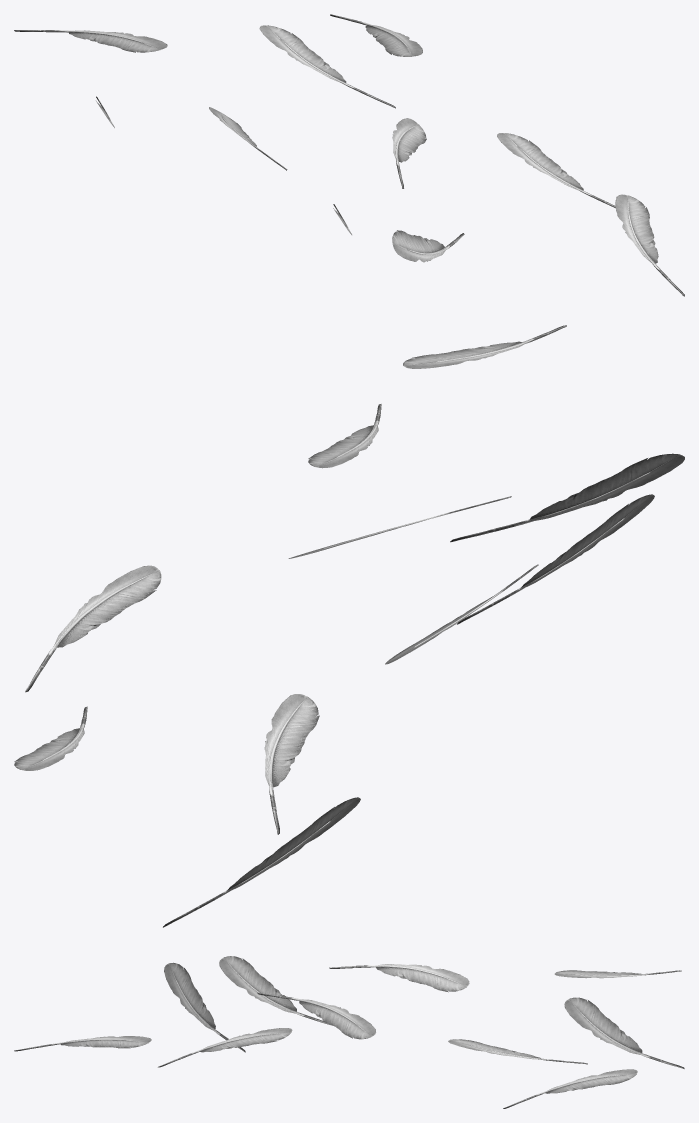
The model's file is feathers.fbx.
3 views of the same model, one above another, from view 1: azimuth 30°, elevation 25°; view 2: azimuth 150°, elevation 25°; view 3: azimuth 270°, elevation 25° (orthographic). The views are drawn at different scales.
Parts seen in each view (by area): view 1: feathers; view 2: feathers; view 3: feathers.
Part boxes in pixels (x1,y1,x2,y2): feathers: (14, 14, 684, 296); feathers: (14, 325, 684, 927); feathers: (14, 956, 684, 1108).
Size of the model in its own units: 137 by 58.55 by 390.
